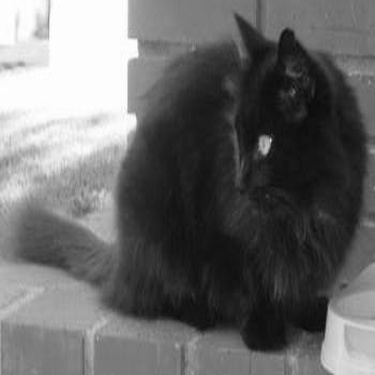cat: (59, 10, 369, 333)
